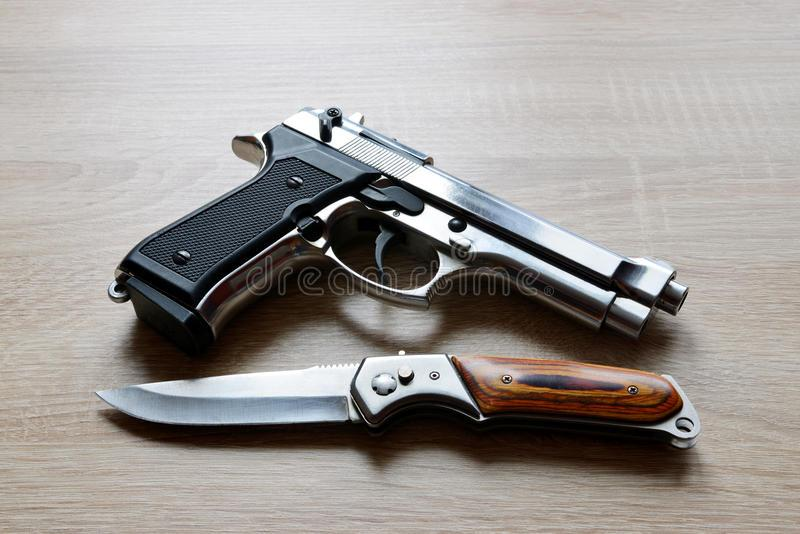weapon: (106, 101, 690, 348), (94, 347, 703, 451)
